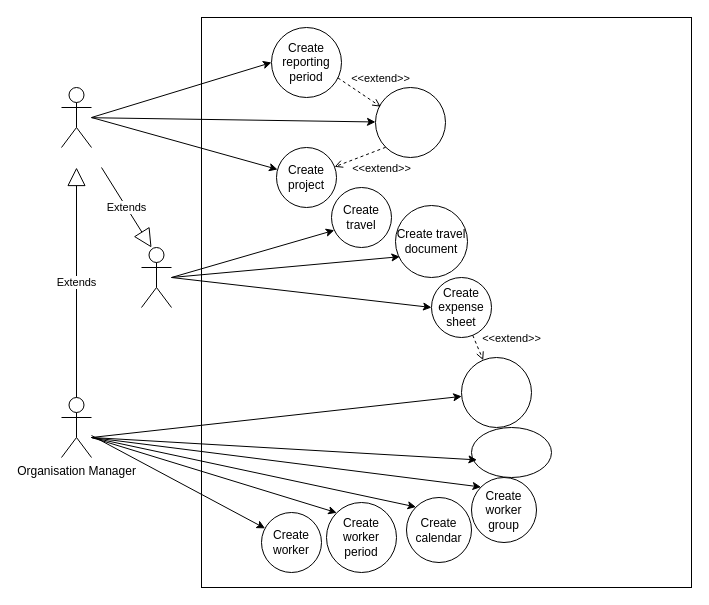
This 709x605 diagram has some shape labels left out. Each missing label, with the centre of its shape:
"Create expense item" belongs at point 496,392.
"Create location" belongs at point 511,452.
"Create work package" belongs at point 410,122.
"Project Manager" belongs at point 76,117.
"User" belongs at point 156,277.
